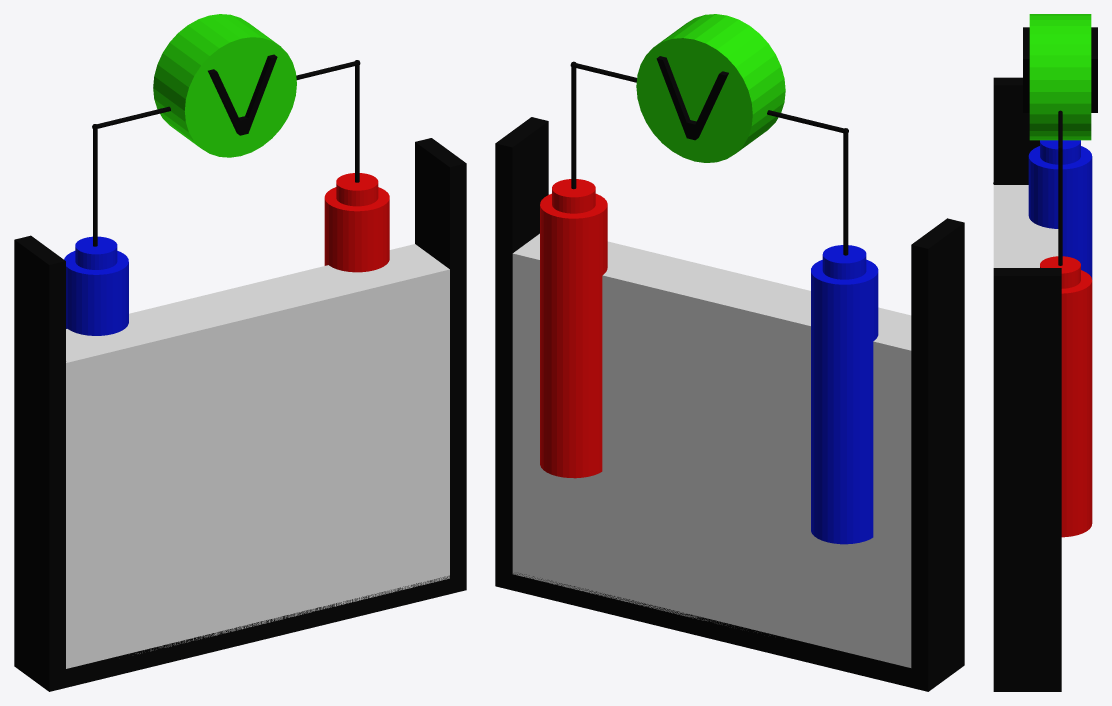
Rendered from Leadacid.gltf.
3 renders of one model, left to right at view 1: azimuth 30°, elevation 25°; view 2: azimuth 150°, elevation 25°; view 3: azimuth 270°, elevation 25°, orthographic. The views are drawn at different scales.
Visible parts, largest first — view 1: Cube, Cube.002, Cylinder.002, Cylinder, Cylinder.001, Cube.001, Cylinder.004, Cylinder.003; view 2: Cube, Cube.002, Cylinder.001, Cylinder, Cylinder.002, Cube.001, Cylinder.004, Cylinder.003; view 3: Cube.002, Cylinder, Cylinder.002, Cylinder.001, Cube, Cube.001, Cylinder.003.
Part boxes in pixels (x1,y1,x2,y2): Cube: (66, 244, 449, 668); Cube.002: (14, 138, 466, 691); Cylinder.002: (153, 14, 296, 157); Cylinder: (324, 173, 389, 272); Cylinder.001: (64, 236, 128, 335); Cube.001: (208, 54, 277, 135); Cylinder.004: (92, 106, 170, 246); Cylinder.003: (296, 60, 360, 182); Cube: (512, 233, 911, 667); Cube.002: (495, 117, 964, 691); Cylinder.001: (811, 245, 878, 544); Cylinder: (540, 179, 607, 478); Cylinder.002: (636, 14, 785, 162); Cube.001: (656, 56, 728, 140); Cylinder.004: (767, 110, 848, 255); Cylinder.003: (570, 61, 636, 189); Cube.002: (993, 77, 1061, 691); Cylinder: (1040, 256, 1092, 537); Cylinder.002: (1029, 14, 1091, 140); Cylinder.001: (1028, 140, 1092, 279); Cube: (993, 185, 1058, 267); Cube.001: (1023, 27, 1097, 112); Cylinder.003: (1058, 110, 1062, 265).
Size of the model in its own units: 8.07 by 10.88 by 1.8.
